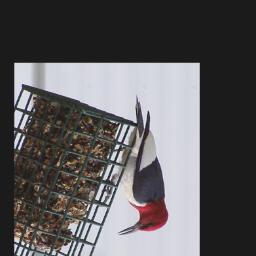Woodpecker: (103, 96, 169, 236)
